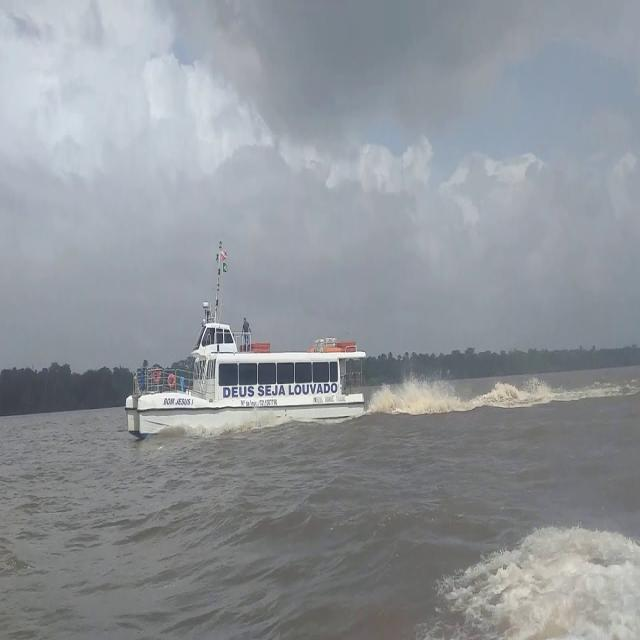houseboat: (122, 307, 362, 422)
